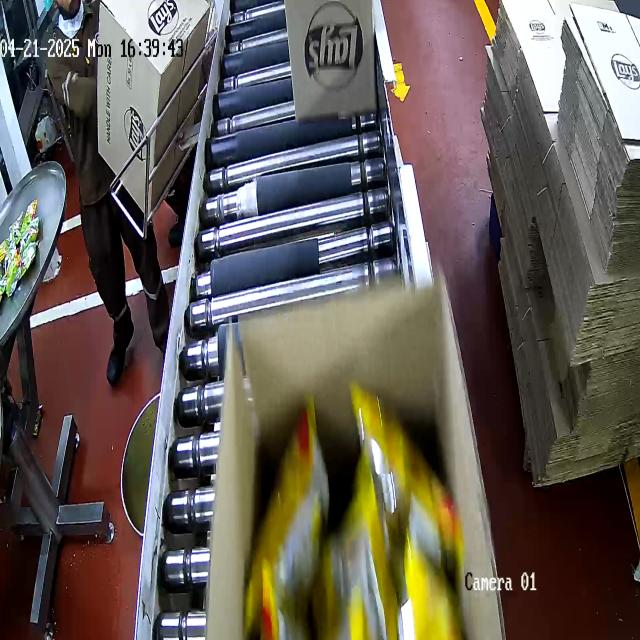SALTED: (242, 381, 460, 640)
